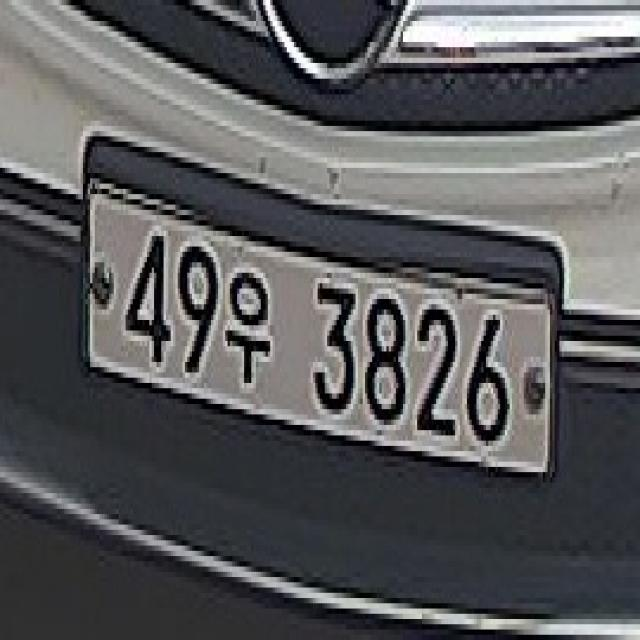2: (418, 298, 458, 448)
3: (313, 270, 357, 426)
4: (124, 226, 172, 374)
6: (463, 308, 516, 451)
8: (363, 296, 407, 436)
9: (174, 236, 222, 393)
license_plate: (83, 138, 566, 495)
u: (225, 265, 272, 397)
